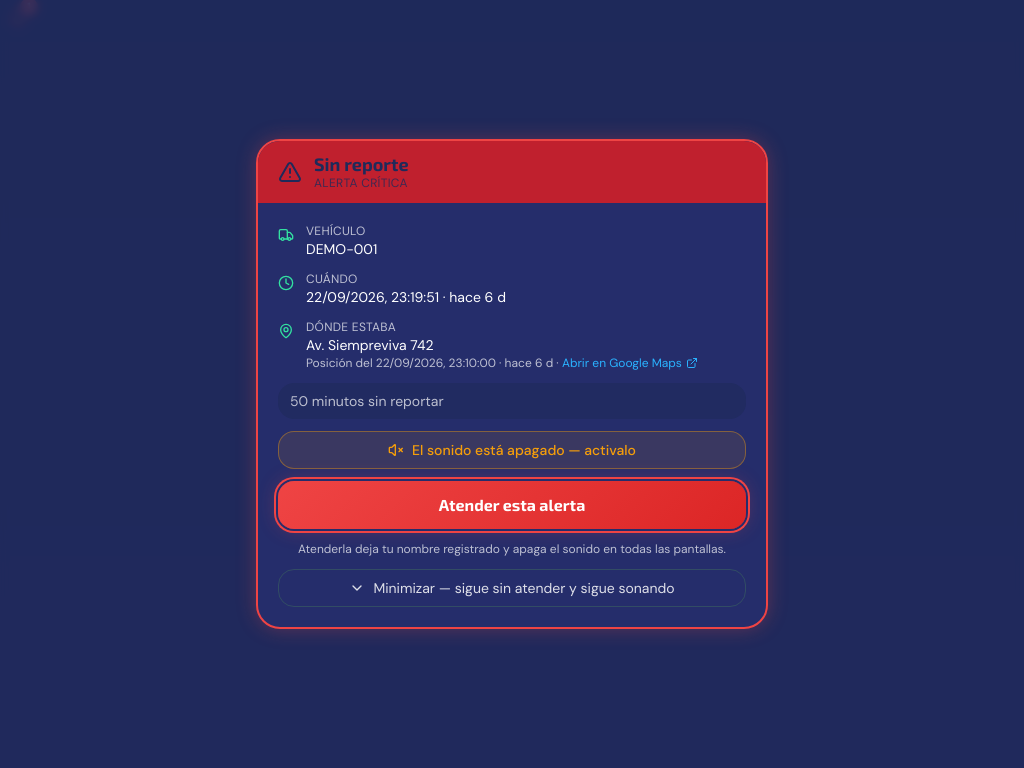
Test case: Campana · las superposiciones ESCAPAN de la barra superior › 🔴 el cuerpo del modal tiene desplazamiento propio y altura acotada
Click the button "Atender esta alerta" at (512, 505), box x1=278 y1=481 x2=746 y2=529
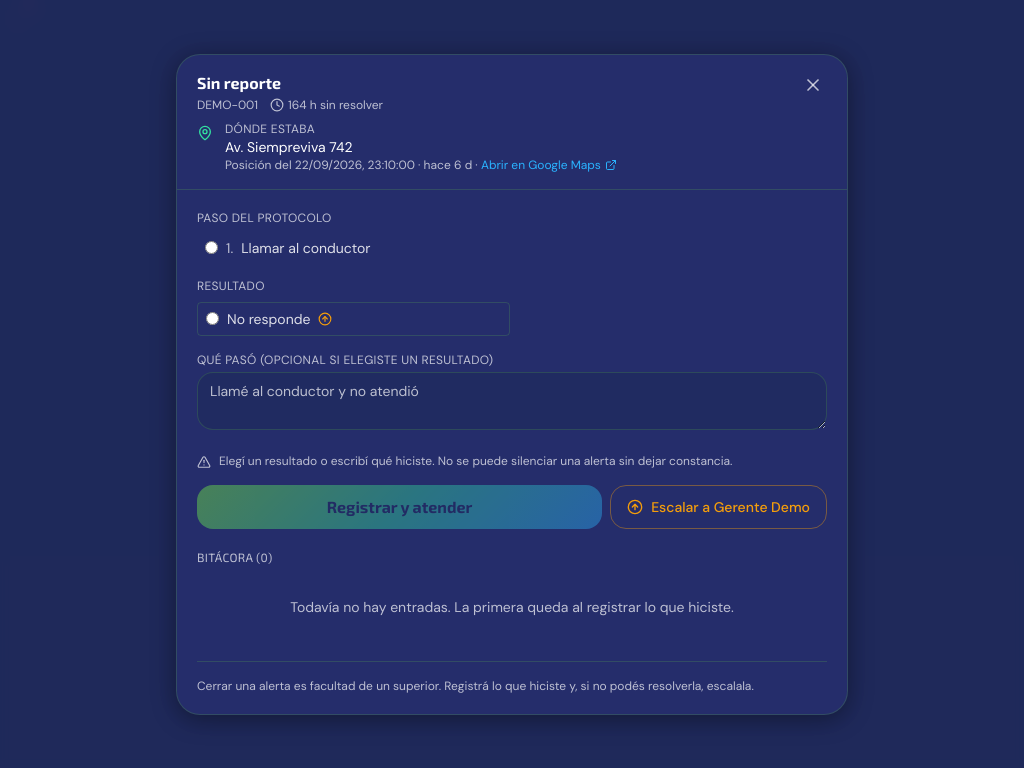
Now the element with class "overflow-y-auto" that starts with "Paso del protocolo" is shown, box x1=177 y1=190 x2=847 y2=714
